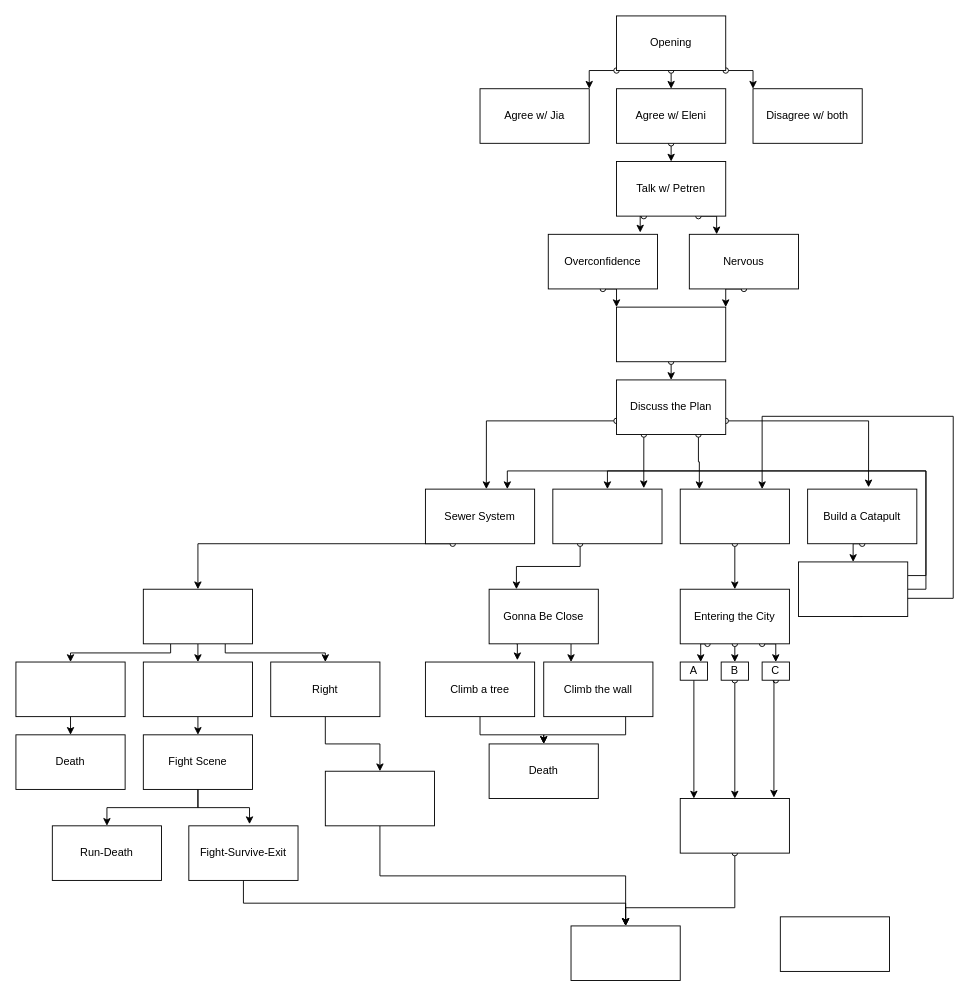
Some shapes in this 976 by 996 pixel diagram are drawn without their labels. Each missing label, with the box of its shape:
Center: (142, 661, 253, 717)
Entering the Sewers: (142, 588, 253, 644)
Exit: (324, 770, 435, 826)
In the City: (679, 798, 789, 853)
Just Walk In: (679, 488, 789, 544)
Left: (15, 661, 125, 717)
Over the Wall: (552, 488, 662, 544)
Prepping Dinner: (616, 306, 726, 362)
test: (779, 916, 890, 971)
That's a stupid Idea: (798, 561, 908, 617)
The Sharp Spoon Inn: (570, 925, 680, 981)
